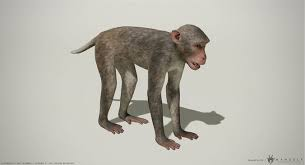monkey: (62, 4, 274, 130)
